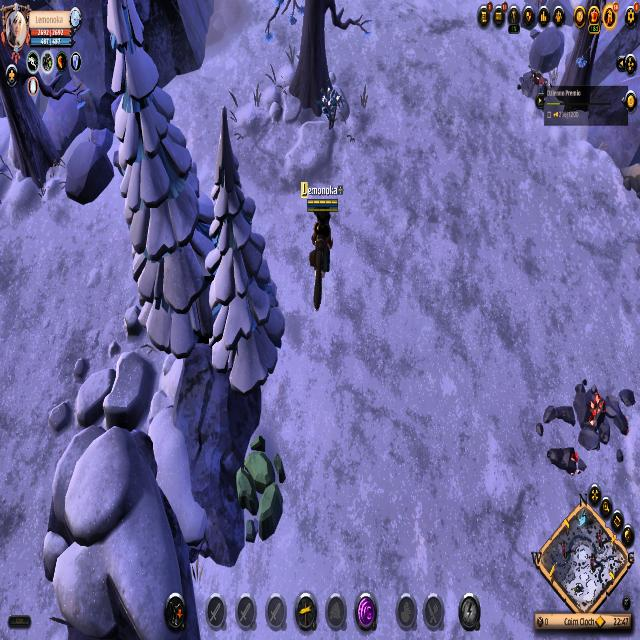fiber tier 4: (318, 85, 344, 133)
rock tier 3: (235, 436, 288, 542)
